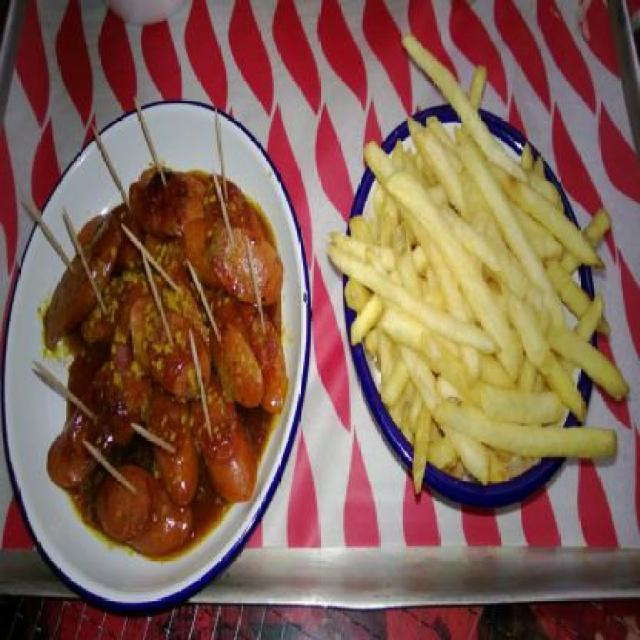French fries: (333, 98, 621, 487)
